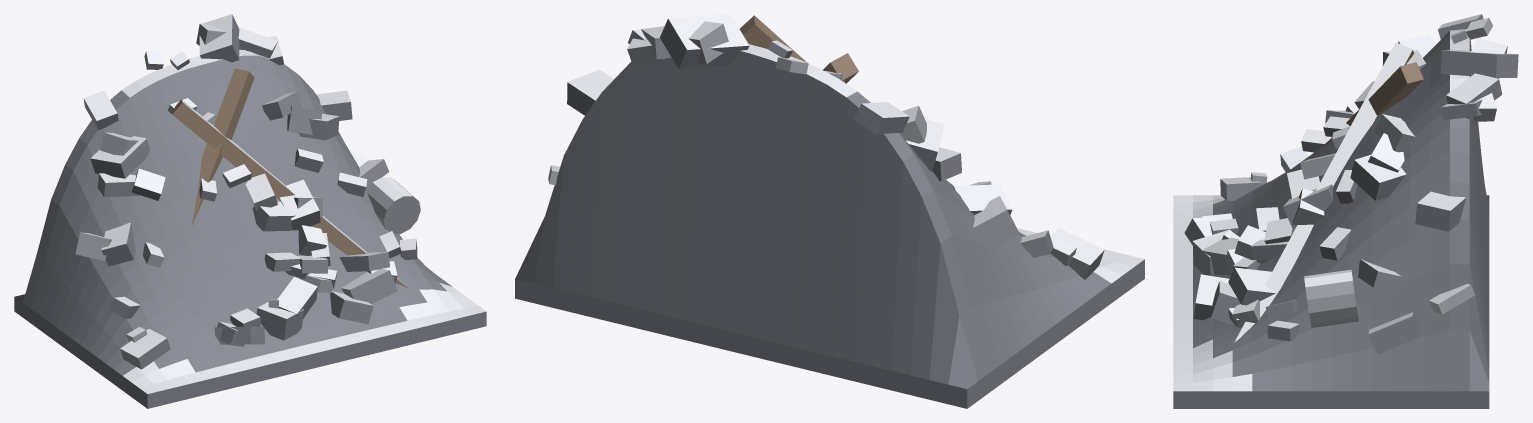
Rendered from PR_Bloqueio_Casinha_Escombros.fbx.
3 views of the same model, side by side, from view 1: azimuth 30°, elevation 25°; view 2: azimuth 150°, elevation 25°; view 3: azimuth 270°, elevation 25° (orthographic). The views are drawn at different scales.
Visible parts, largest first — view 1: PR_Bloqueio_Casinha_Escombros; view 2: PR_Bloqueio_Casinha_Escombros; view 3: PR_Bloqueio_Casinha_Escombros.
Part boxes in pixels (left/top/right/bottom): PR_Bloqueio_Casinha_Escombros: left=14, top=14, right=486, bottom=408; PR_Bloqueio_Casinha_Escombros: left=515, top=14, right=1144, bottom=408; PR_Bloqueio_Casinha_Escombros: left=1173, top=14, right=1518, bottom=408.
Size of the model in its own units: 7.2 by 4.9 by 5.35.
